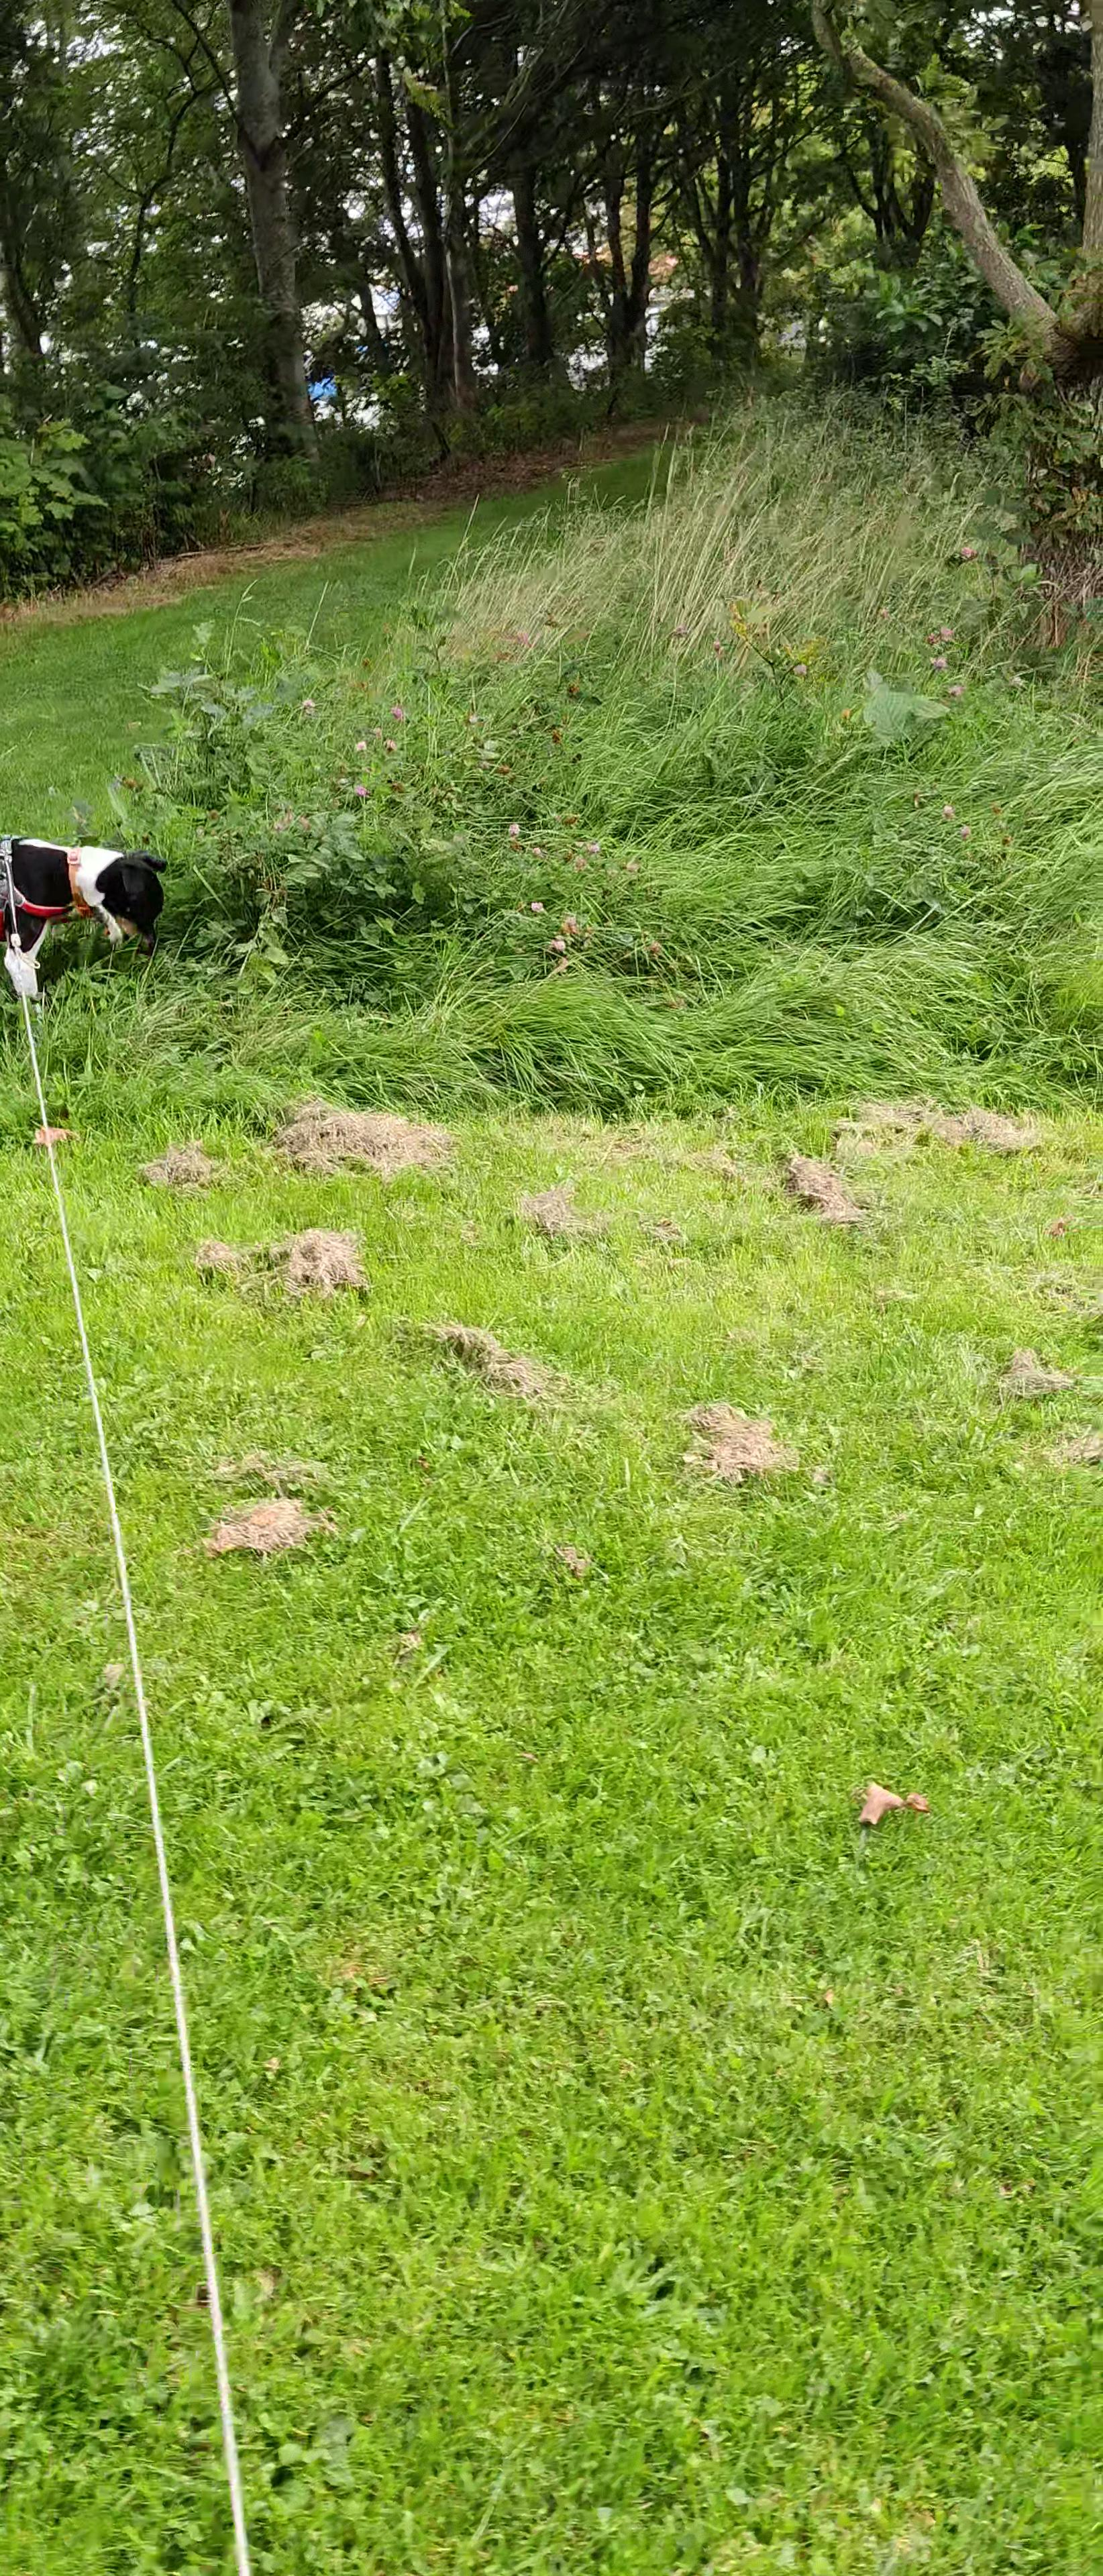Dog: (0, 808, 182, 1009)
